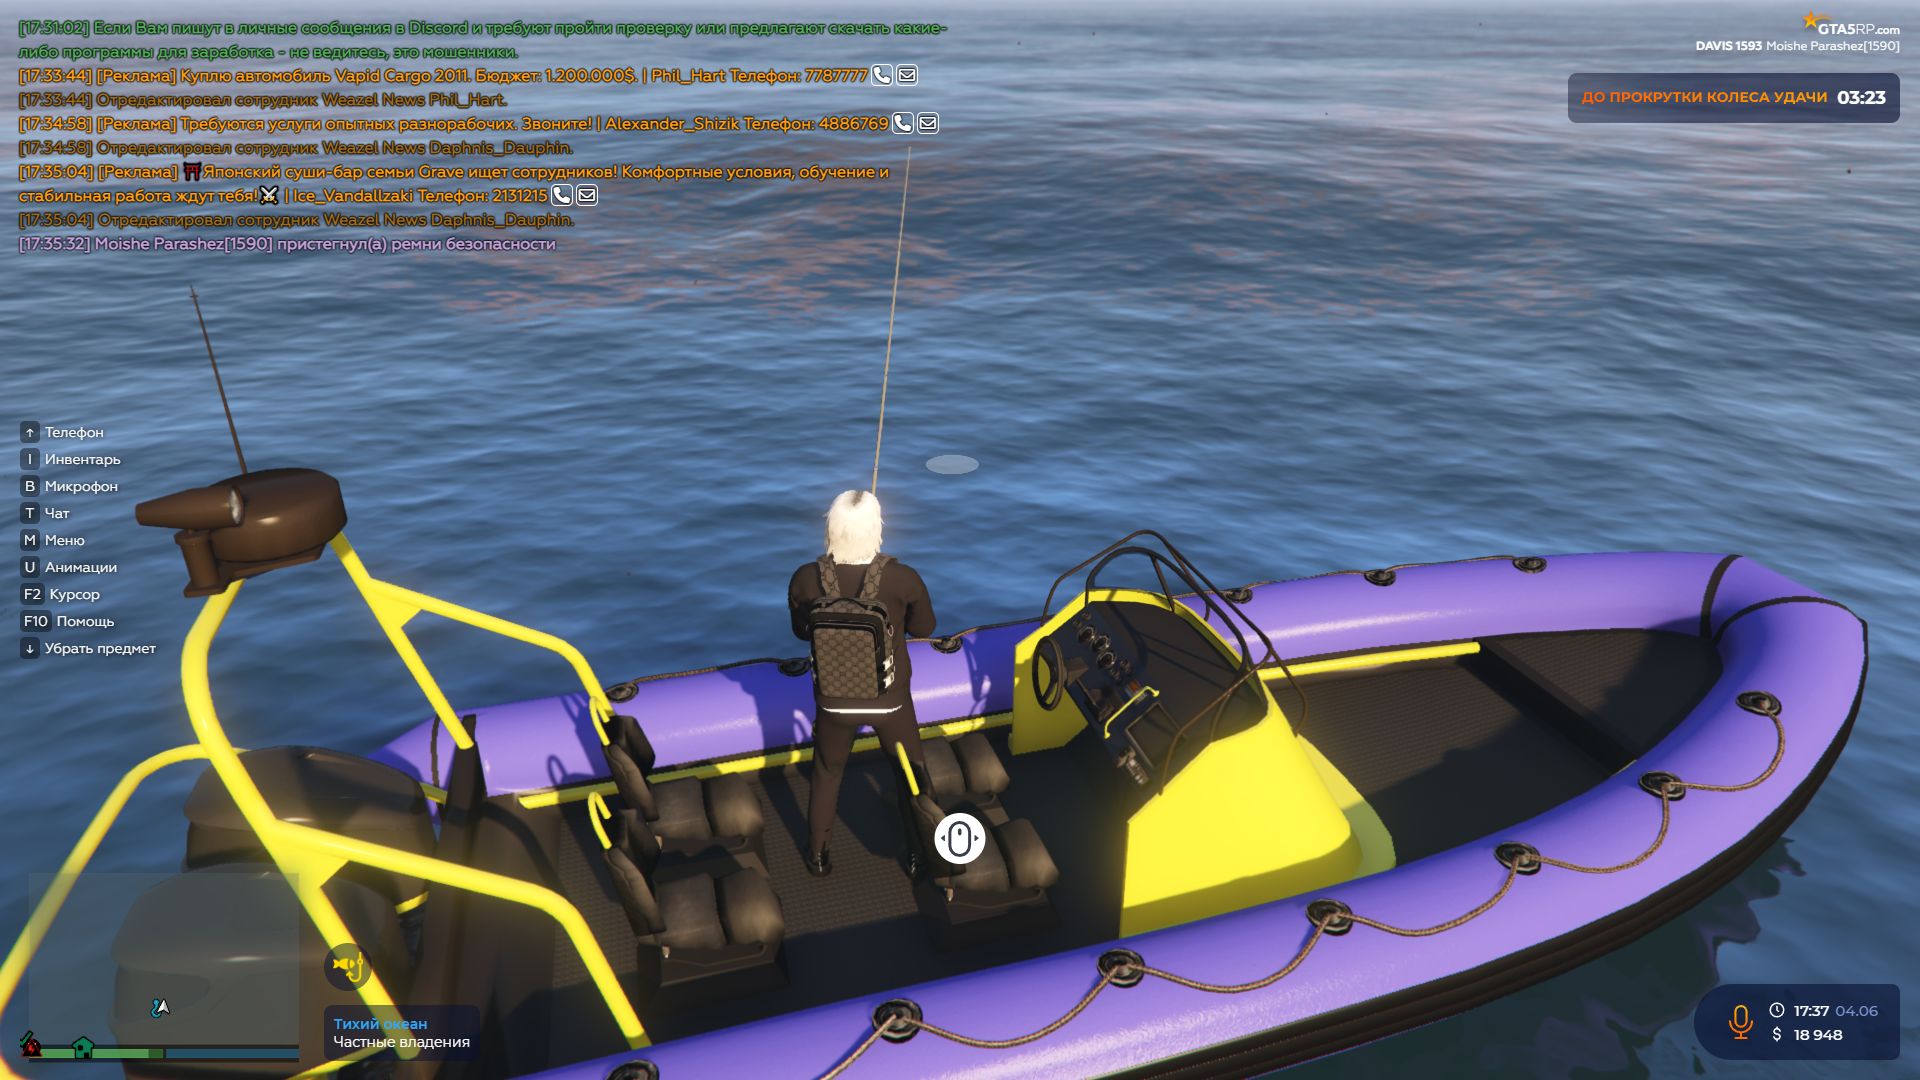circle: (924, 454, 981, 476)
